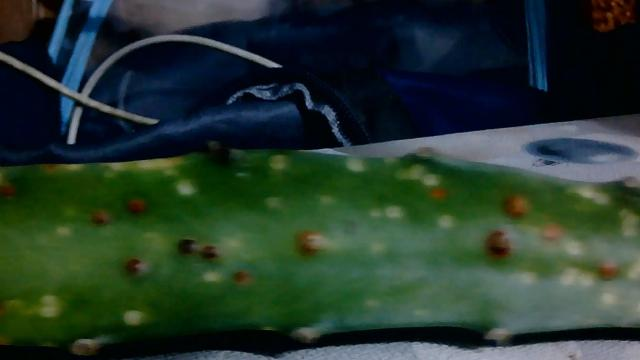stemcanker: (172, 231, 224, 268), (482, 224, 519, 266), (291, 221, 327, 261), (494, 189, 536, 222), (592, 259, 626, 289), (117, 252, 151, 281), (86, 203, 115, 233), (228, 267, 258, 288), (127, 195, 153, 219)
